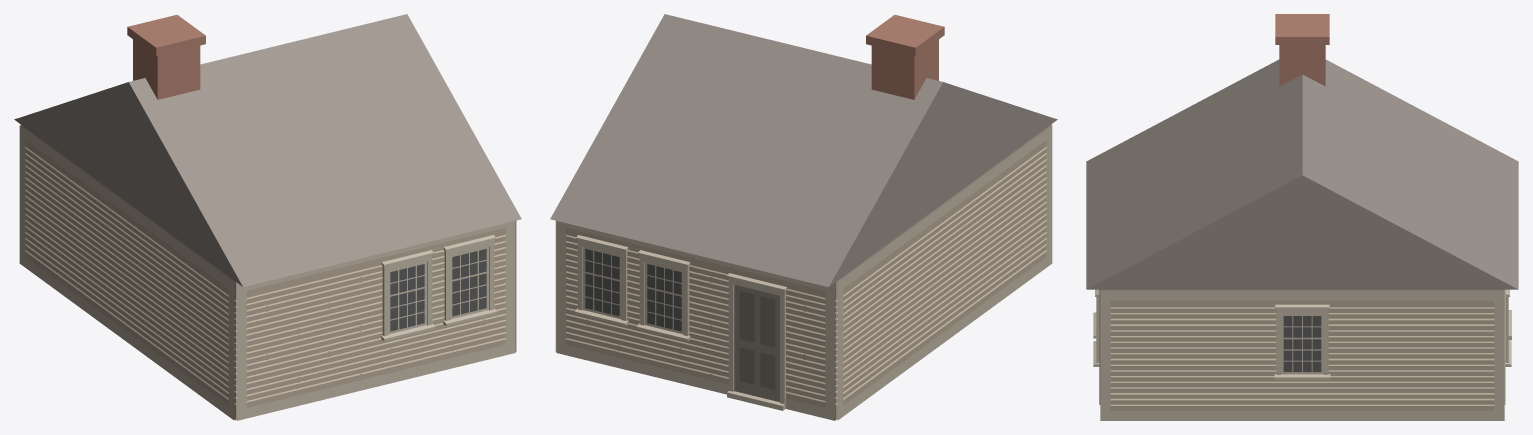
The model's file is inf_brickmaker_dwelling_north__inferred_1835.glb.
3 renders of one model, left to right at view 1: azimuth 30°, elevation 25°; view 2: azimuth 150°, elevation 25°; view 3: azimuth 270°, elevation 25°, orthographic. The views are drawn at different scales.
Visible parts, largest first — view 1: inf_brickmaker_dwelling_north__inferred_1835; view 2: inf_brickmaker_dwelling_north__inferred_1835; view 3: inf_brickmaker_dwelling_north__inferred_1835.
Boxes of the visible parts, x1,y1,x2,y2 form: inf_brickmaker_dwelling_north__inferred_1835: [14, 14, 521, 420]; inf_brickmaker_dwelling_north__inferred_1835: [550, 14, 1057, 420]; inf_brickmaker_dwelling_north__inferred_1835: [1086, 14, 1518, 420].
Size of the model in its own units: 5.64 by 5.67 by 7.82.
